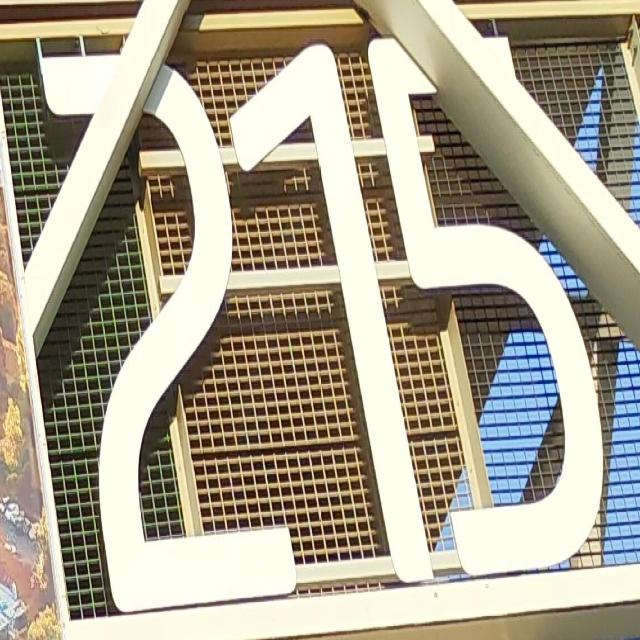character: (38, 49, 299, 621), (366, 26, 605, 578), (226, 37, 436, 590)
